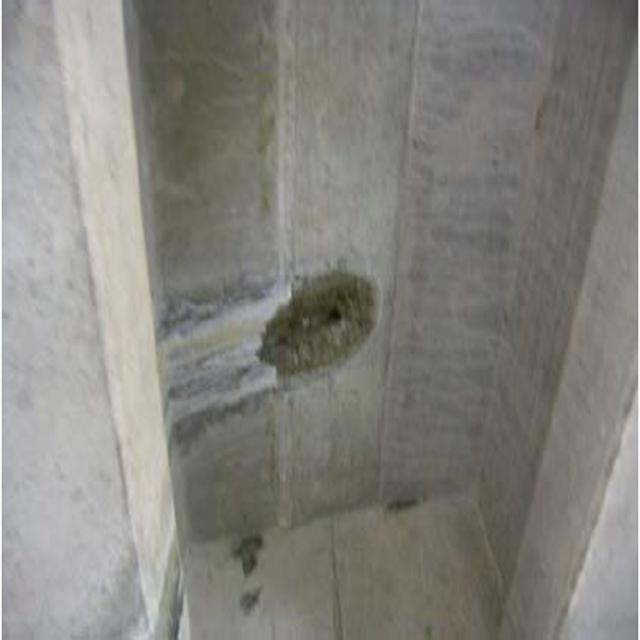leakage: (134, 250, 289, 427)
